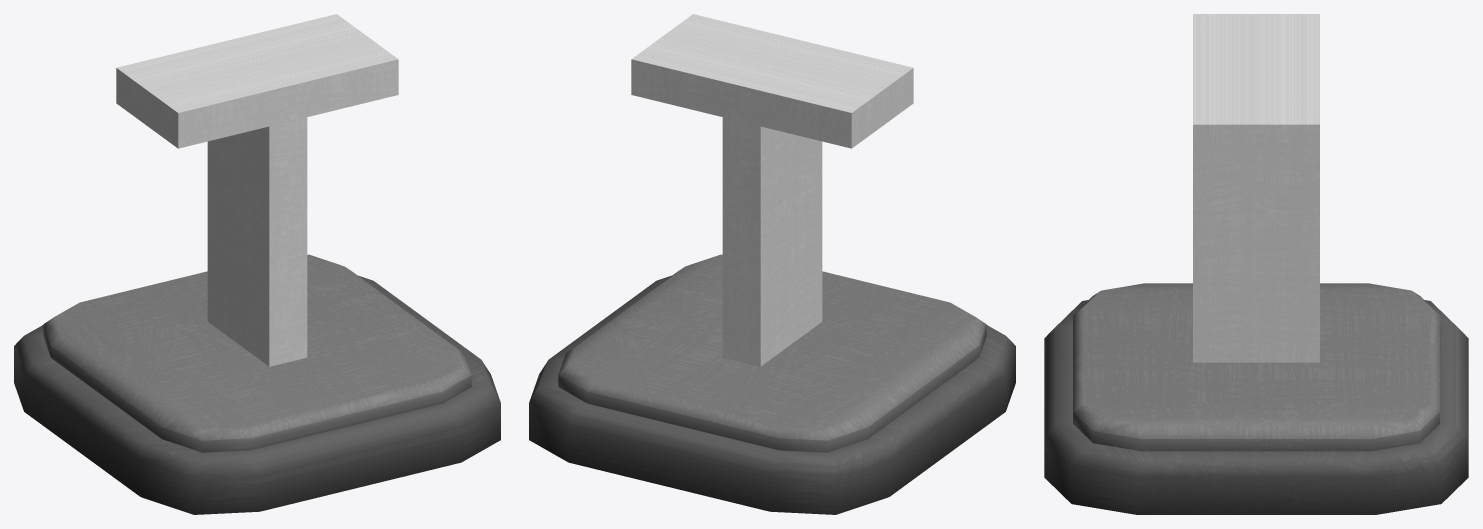
File: Statue Letter T Hand.fbx
The picture shows the model from 3 angles, left to right: view 1: azimuth 30°, elevation 25°; view 2: azimuth 150°, elevation 25°; view 3: azimuth 270°, elevation 25°; orthographic projection. The views are drawn at different scales.
Parts seen in each view (by area): view 1: StatueBase (1), Letter; view 2: StatueBase (1), Letter; view 3: StatueBase (1), Letter.
Boxes of the visible parts, bbox=[...] form: StatueBase (1): bbox=[14, 254, 500, 514]; Letter: bbox=[116, 14, 398, 366]; StatueBase (1): bbox=[529, 254, 1015, 514]; Letter: bbox=[631, 14, 913, 366]; StatueBase (1): bbox=[1044, 283, 1468, 514]; Letter: bbox=[1193, 14, 1319, 362].
Size of the model in its own units: 0.9118 by 0.8657 by 0.9299.
